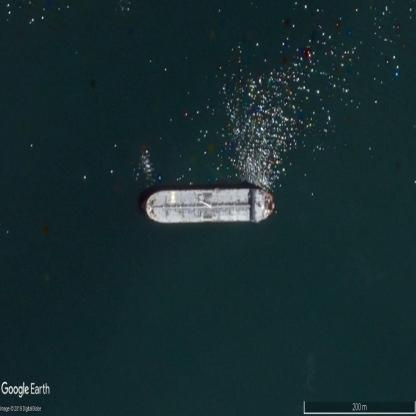ship: (140, 186, 276, 224)
